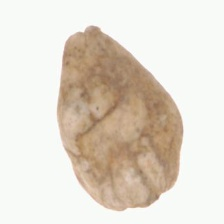L1: (109, 186, 175, 211), (61, 23, 105, 47)
L2: (57, 25, 184, 212)
